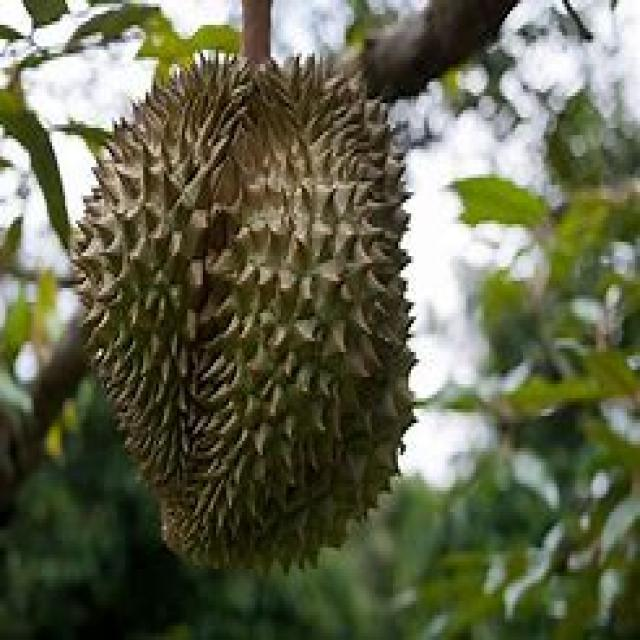mature: (69, 55, 405, 549)
